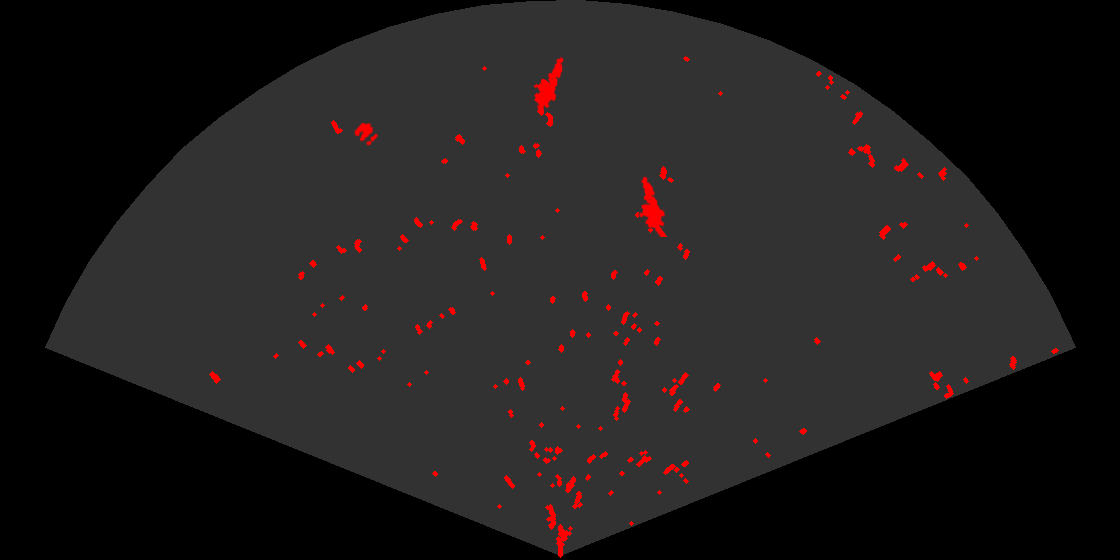ball: (353, 121, 380, 147)
frogman: (638, 175, 669, 237), (532, 56, 565, 110)
